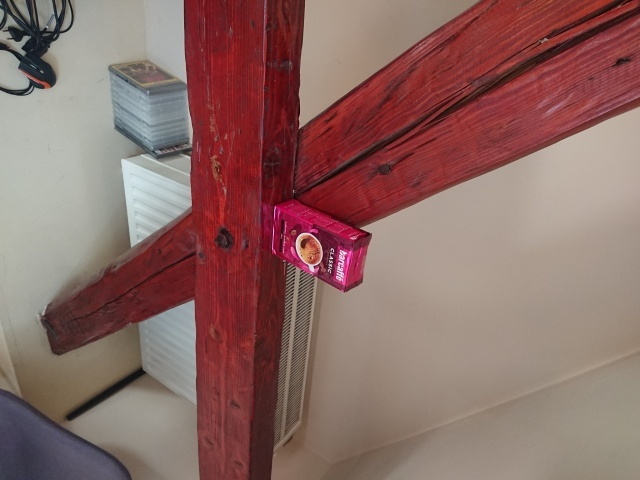Barcaffe Classic Original 225g: (270, 197, 374, 294)
